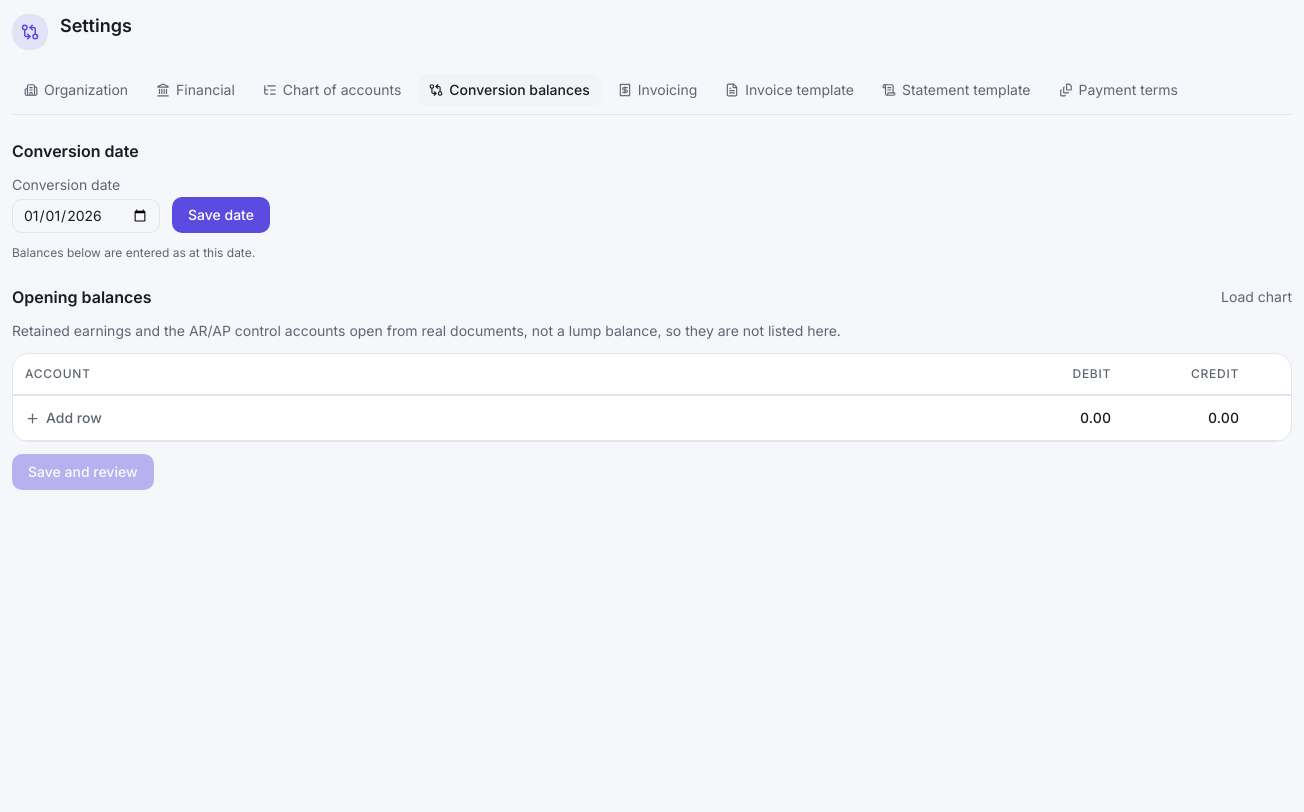
Scenario: ConversionBalancesPage › a balanced grid shows "Balanced" and enables Save and review
Click the button "Add row" at (63, 418), box [25,408,102,428]
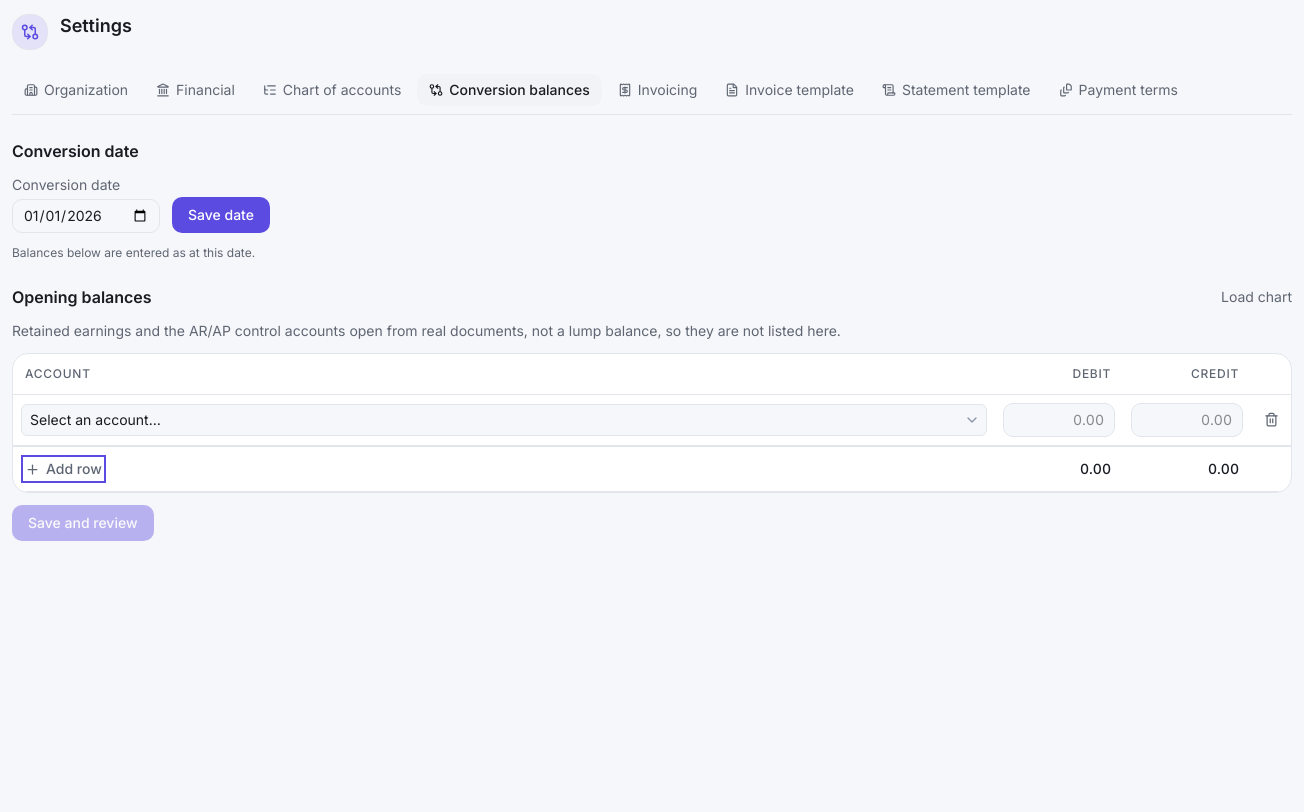
Click the button "Add row" at (63, 469), box [25,459,102,479]
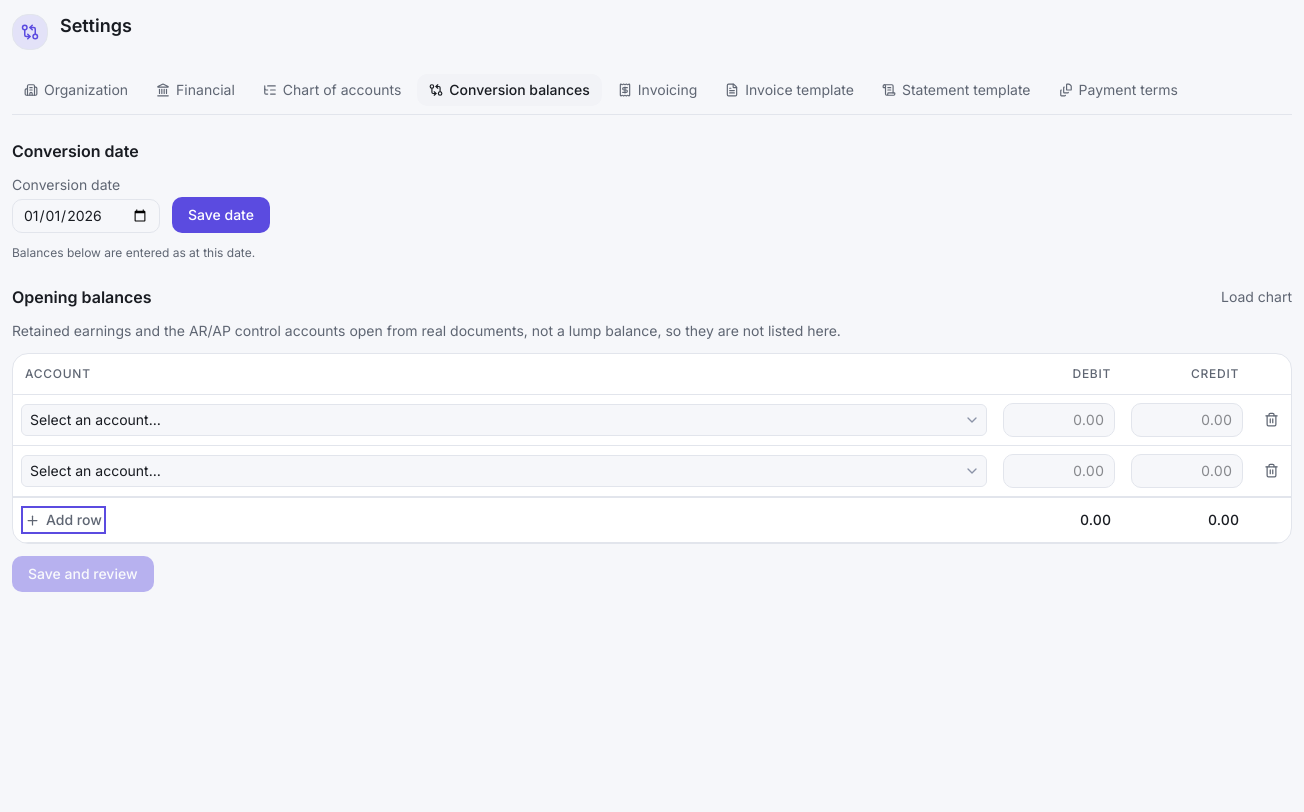
Select "1110 · Operating Cash" in the dropdown named "Account for row 1" at (504, 420), box [21,404,987,436]
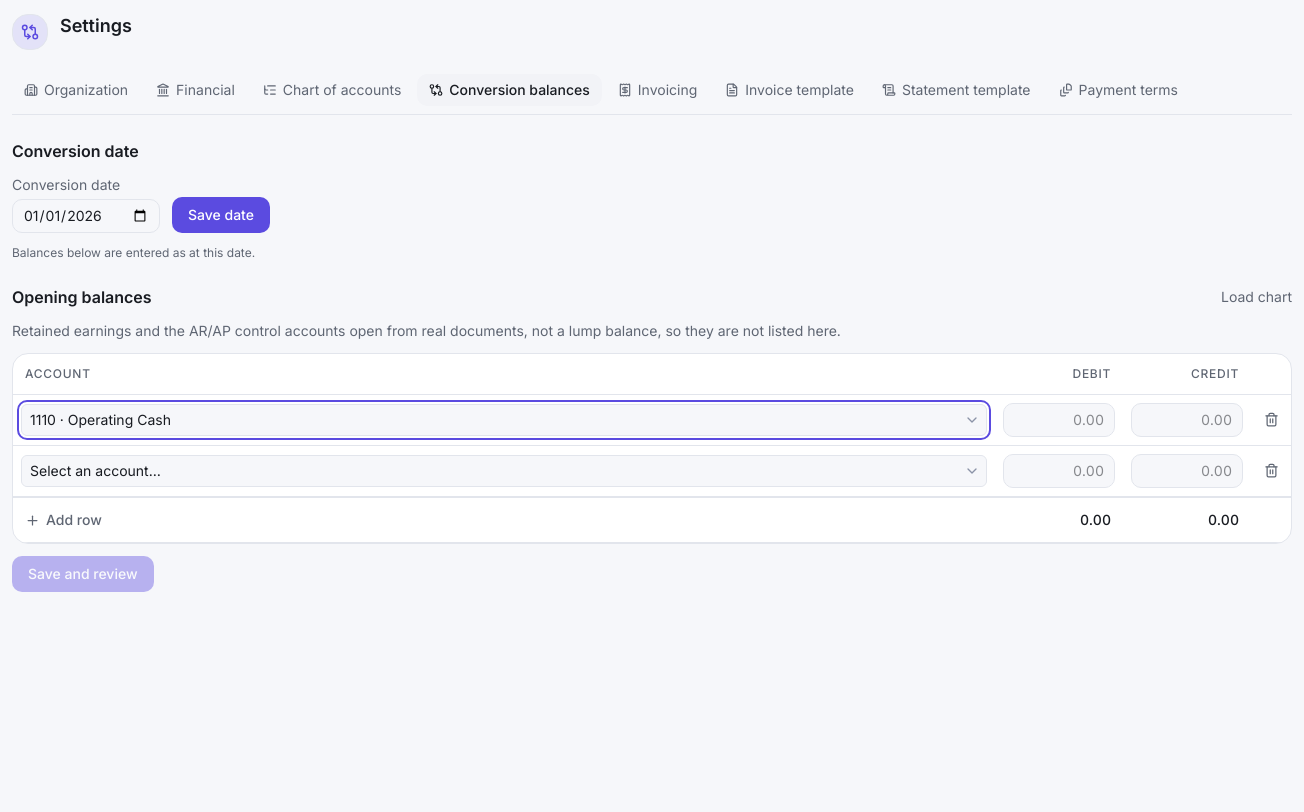
Type "1000.00" into the field named "Debit for row 1" at (1059, 420), box [1003,403,1115,437]
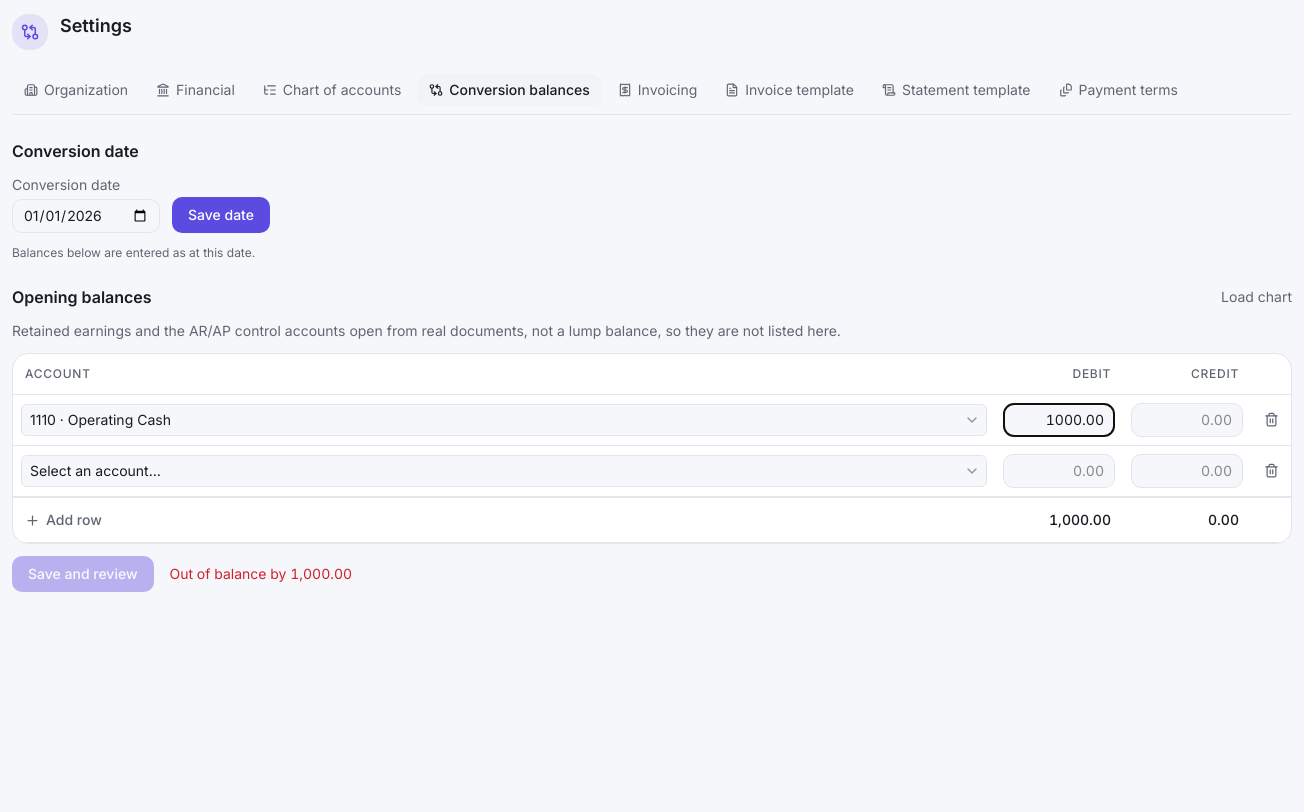
Select "4100 · Sales Revenue" in the dropdown named "Account for row 2" at (504, 471), box [21,455,987,487]
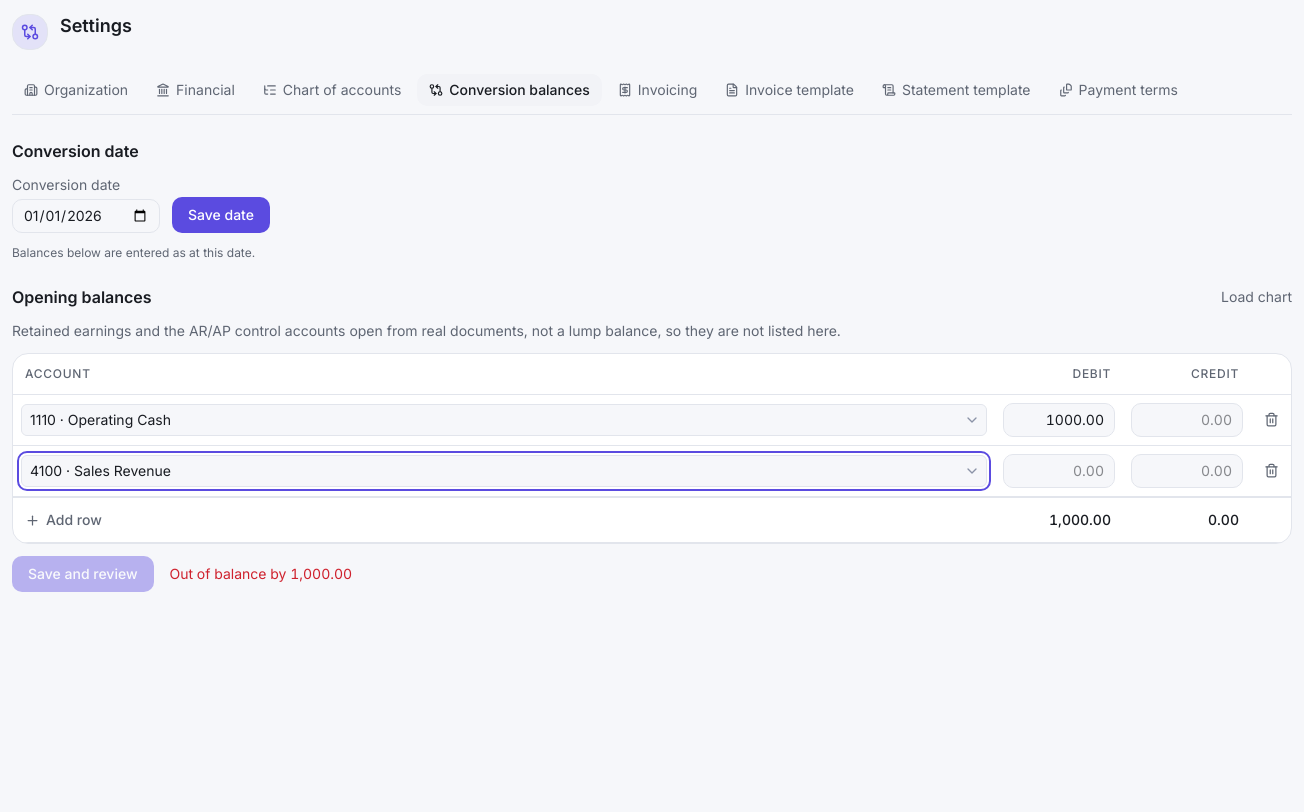
Type "1000.00" into the field named "Credit for row 2" at (1187, 471), box [1131,454,1243,488]
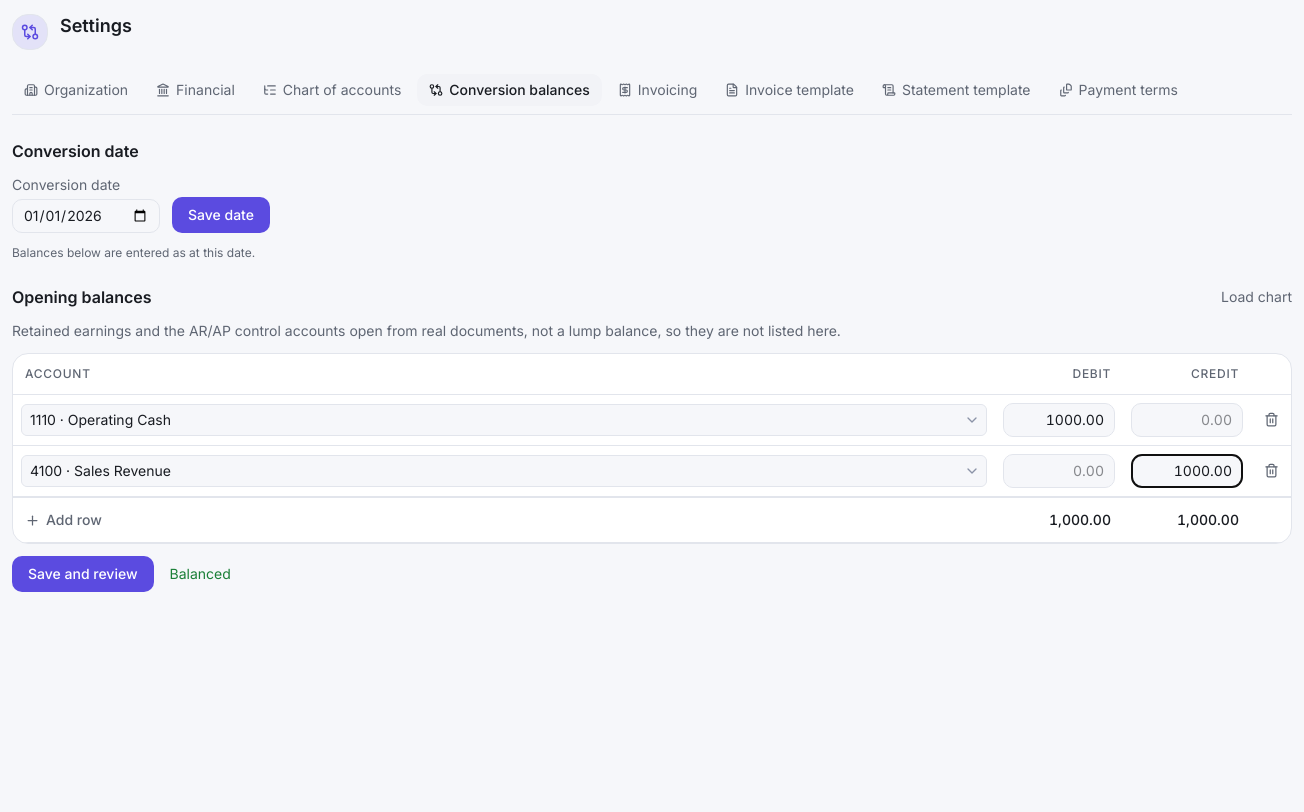
Expected: the text "Balanced" is shown, [170,564,231,584]
Expected: the button "Save and review" is enabled, [12,556,154,592]
